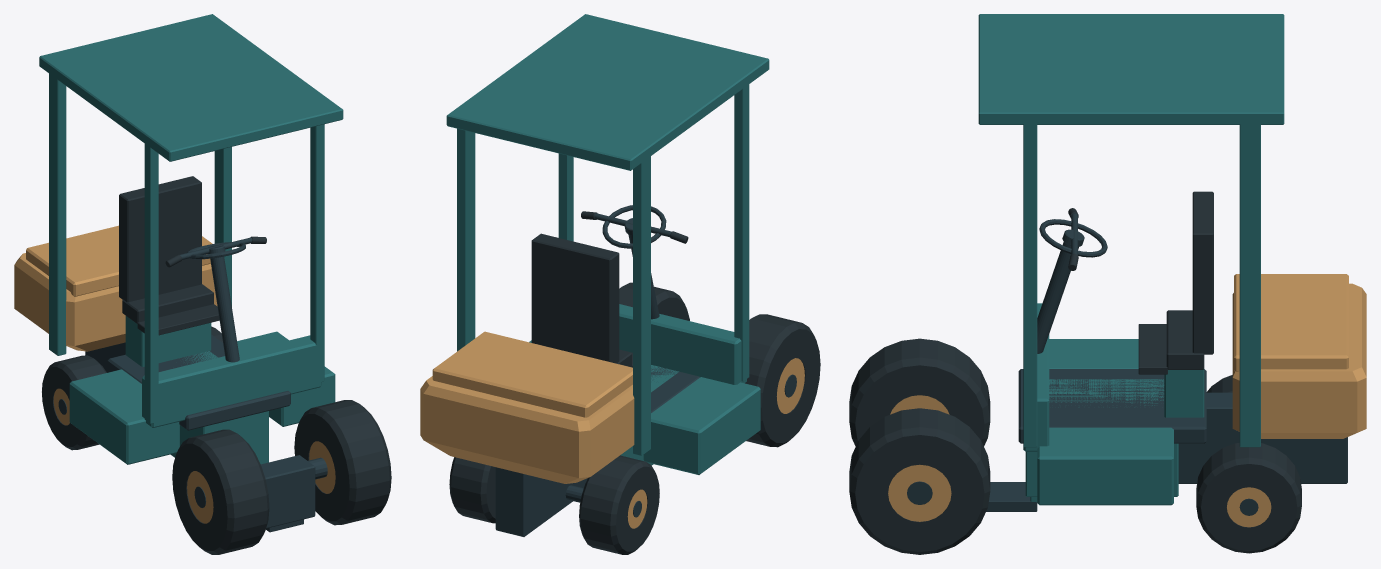
The model's file is forklift-cab-stage.glb.
3 renders of one model, left to right at view 1: azimuth 30°, elevation 25°; view 2: azimuth 150°, elevation 25°; view 3: azimuth 270°, elevation 25°, orthographic. The views are drawn at different scales.
Parts seen in each view (by area): view 1: forklift-cab-stage__batch_01, forklift-cab-stage__batch_17, forklift-cab-stage__batch_02, forklift-cab-stage__batch_13, forklift-cab-stage__batch_00, forklift-cab-stage__batch_16, forklift-cab-stage__batch_05, forklift-cab-stage__batch_12, forklift-cab-stage__batch_10, forklift-cab-stage__batch_15; view 2: forklift-cab-stage__batch_01, forklift-cab-stage__batch_02, forklift-cab-stage__batch_17, forklift-cab-stage__batch_13, forklift-cab-stage__batch_05, forklift-cab-stage__batch_00, forklift-cab-stage__batch_08, forklift-cab-stage__batch_16, forklift-cab-stage__batch_10, forklift-cab-stage__batch_12; view 3: forklift-cab-stage__batch_01, forklift-cab-stage__batch_02, forklift-cab-stage__batch_00, forklift-cab-stage__batch_16, forklift-cab-stage__batch_13, forklift-cab-stage__batch_08, forklift-cab-stage__batch_17, forklift-cab-stage__batch_15, forklift-cab-stage__batch_10, forklift-cab-stage__batch_07, forklift-cab-stage__batch_12.
Boxes of the visible parts, box(x1,y1,x2,y2) form: forklift-cab-stage__batch_01: box(39, 14, 343, 464); forklift-cab-stage__batch_17: box(119, 176, 219, 335); forklift-cab-stage__batch_02: box(14, 225, 217, 351); forklift-cab-stage__batch_13: box(172, 429, 269, 554); forklift-cab-stage__batch_00: box(85, 256, 327, 532); forklift-cab-stage__batch_16: box(294, 400, 391, 525); forklift-cab-stage__batch_05: box(42, 355, 106, 450); forklift-cab-stage__batch_12: box(187, 471, 213, 523); forklift-cab-stage__batch_10: box(180, 237, 252, 259); forklift-cab-stage__batch_15: box(309, 441, 335, 493); forklift-cab-stage__batch_01: box(446, 14, 769, 474); forklift-cab-stage__batch_02: box(420, 331, 634, 483); forklift-cab-stage__batch_17: box(531, 233, 632, 367); forklift-cab-stage__batch_13: box(745, 314, 820, 447); forklift-cab-stage__batch_05: box(579, 455, 659, 554); forklift-cab-stage__batch_00: box(495, 234, 699, 536); forklift-cab-stage__batch_08: box(449, 457, 495, 523); forklift-cab-stage__batch_16: box(619, 282, 689, 320); forklift-cab-stage__batch_10: box(594, 205, 671, 248); forklift-cab-stage__batch_12: box(776, 358, 804, 413); forklift-cab-stage__batch_01: box(978, 14, 1284, 505); forklift-cab-stage__batch_02: box(1232, 274, 1366, 438); forklift-cab-stage__batch_00: box(986, 242, 1347, 511); forklift-cab-stage__batch_16: box(849, 408, 990, 554); forklift-cab-stage__batch_13: box(849, 338, 990, 446); forklift-cab-stage__batch_08: box(1196, 443, 1301, 553); forklift-cab-stage__batch_17: box(1138, 191, 1213, 374); forklift-cab-stage__batch_15: box(888, 464, 951, 521); forklift-cab-stage__batch_10: box(1039, 213, 1107, 257); forklift-cab-stage__batch_07: box(1227, 487, 1271, 527); forklift-cab-stage__batch_12: box(890, 395, 949, 414).
Size of the model in its own units: 1.2 by 2.1 by 2.2.
